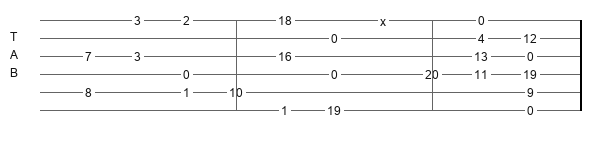0: (183, 68, 194, 81), (331, 32, 342, 45), (331, 68, 342, 81), (478, 14, 489, 27), (527, 104, 538, 117), (527, 50, 538, 63)
1: (183, 86, 194, 99), (281, 104, 292, 117)
10: (229, 86, 247, 99)
11: (474, 68, 492, 81)
12: (523, 32, 541, 45)
13: (474, 50, 492, 63)
16: (278, 50, 296, 63)
18: (278, 14, 296, 27)
19: (327, 104, 345, 117), (523, 68, 541, 81)
2: (183, 14, 194, 27)
20: (425, 68, 443, 81)
3: (134, 14, 145, 27), (134, 50, 145, 63)
4: (478, 32, 489, 45)
7: (85, 50, 96, 63)
8: (85, 86, 96, 99)
9: (527, 86, 538, 99)
x: (380, 15, 390, 26)
